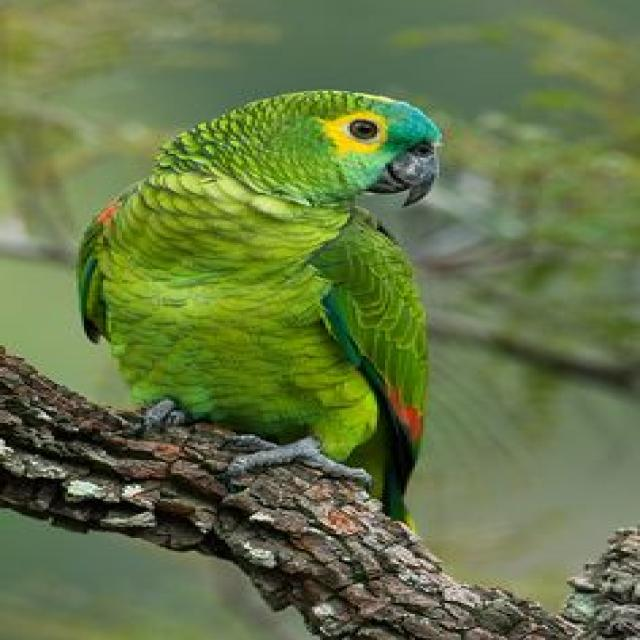Herbivorous: (79, 89, 442, 525)
